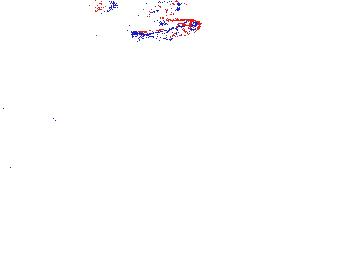red belly glassfish: (132, 16, 202, 41)
redtail glassfish: (96, 1, 187, 19), (18, 1, 83, 20)
